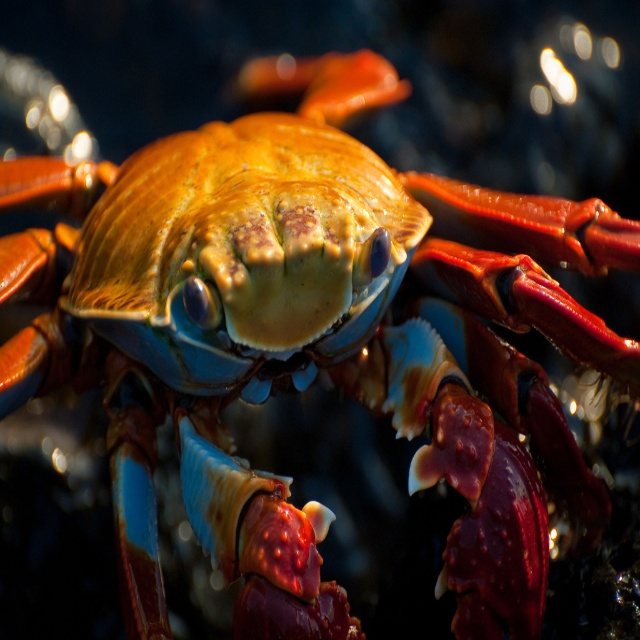Crab: (0, 51, 640, 639)
